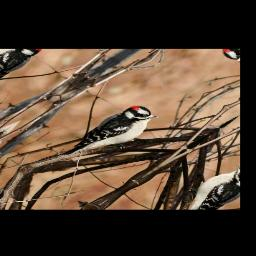Woodpecker: (54, 100, 167, 172)
